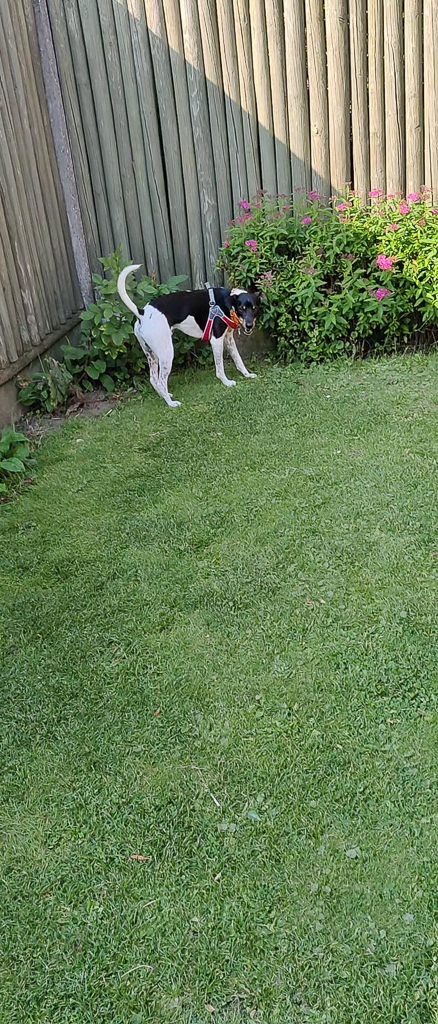Dog: (103, 254, 280, 416)
